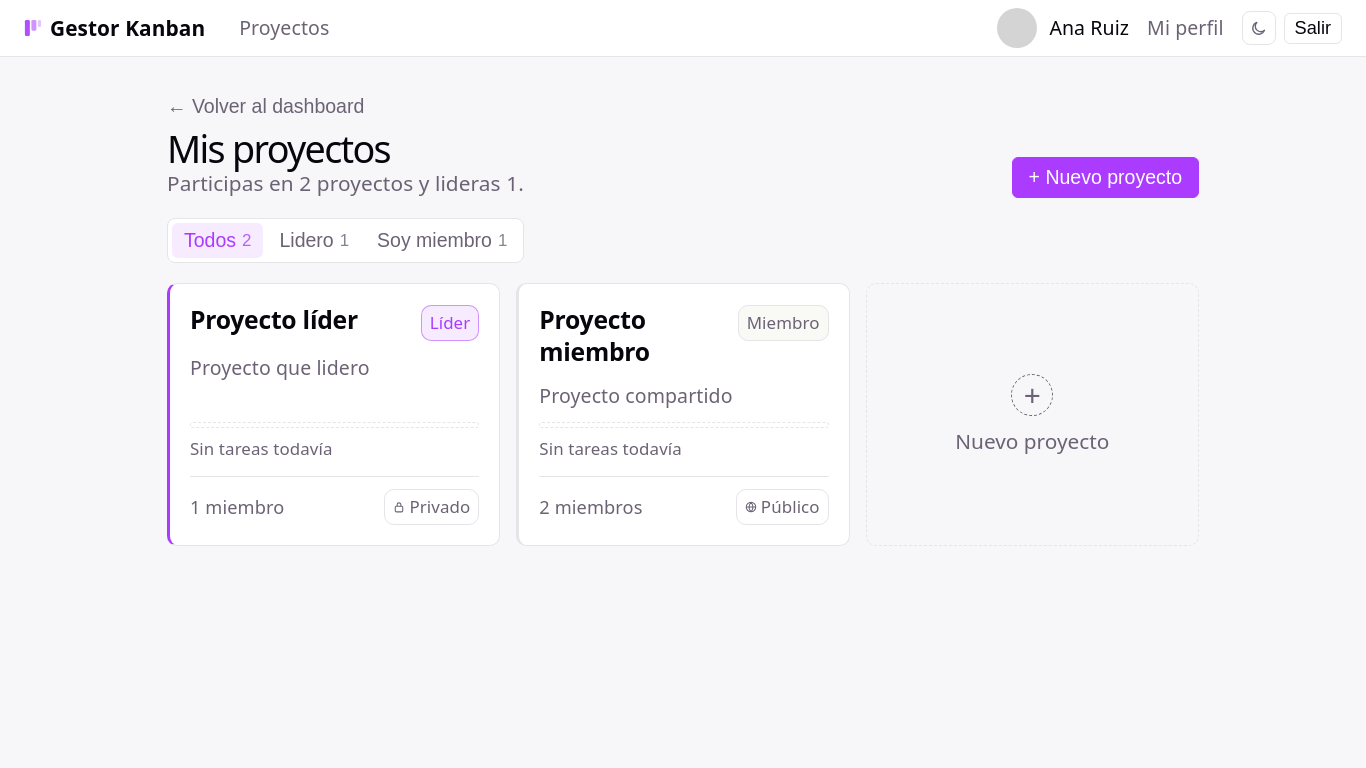
Página de proyectos integrada › filtra la lista para mostrar solo los proyectos que lidero
Click the button "Lidero 1" at (314, 241), box x1=268 y1=223 x2=361 y2=258
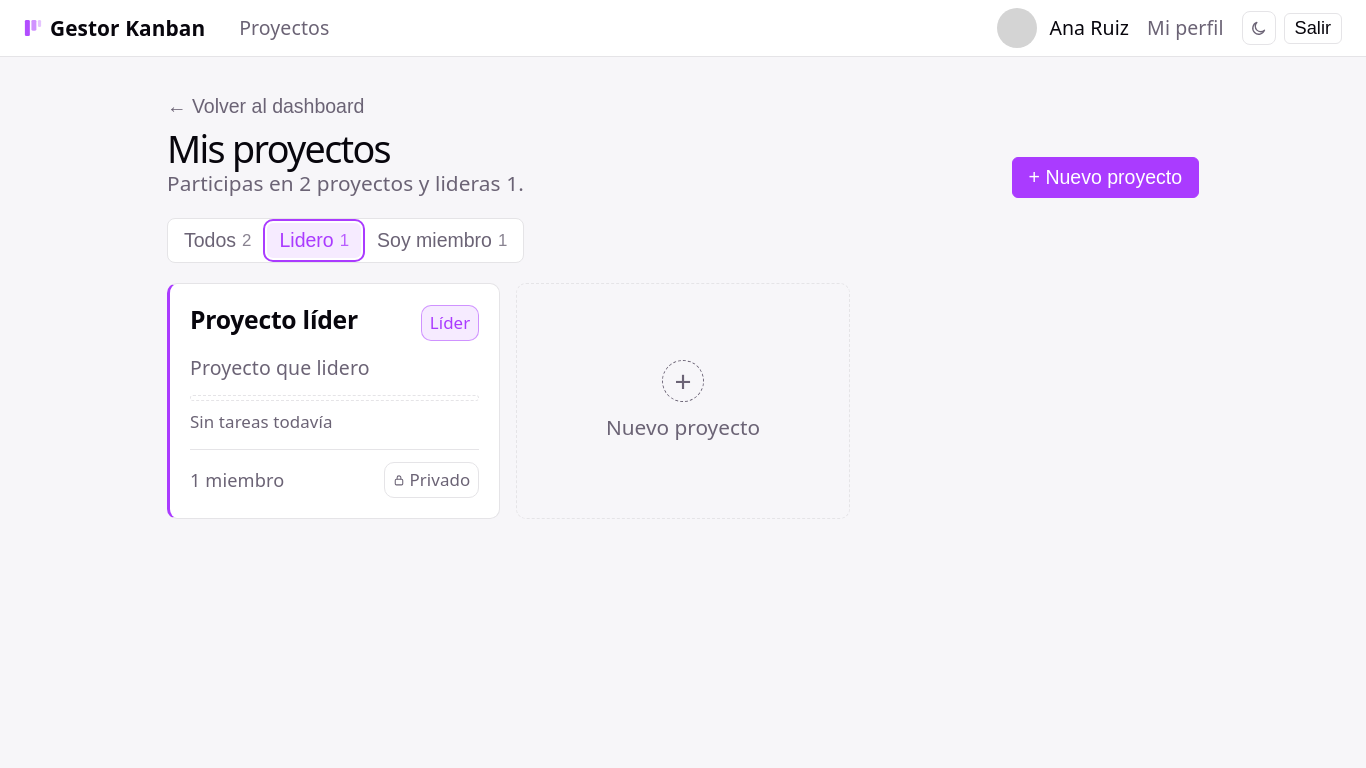
Expected: the heading "Proyecto líder" is shown, x1=190 y1=304 x2=358 y2=336
Expected: the link "Proyecto miembro" is gone
